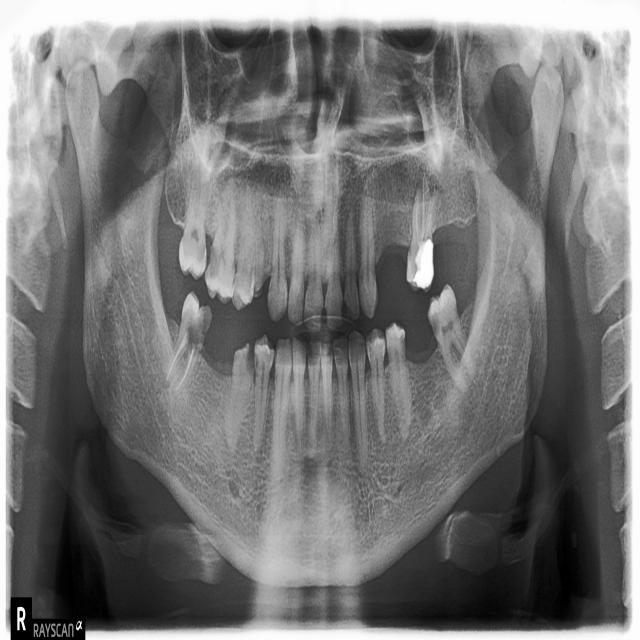mandibula: (64, 61, 566, 593)
